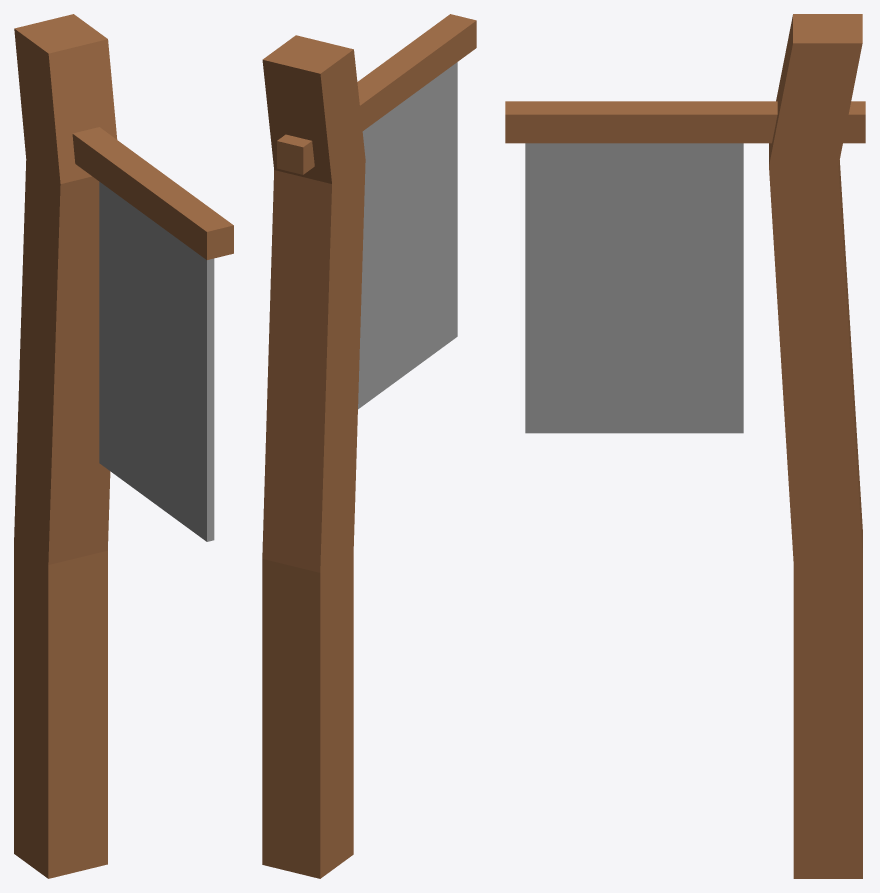
The model's file is blocking_fanion.fbx.
3 views of the same model, side by side, from view 1: azimuth 30°, elevation 25°; view 2: azimuth 150°, elevation 25°; view 3: azimuth 270°, elevation 25° (orthographic). The views are drawn at different scales.
Visible parts, largest first — view 1: blocking_fanion; view 2: blocking_fanion; view 3: blocking_fanion.
Boxes of the visible parts, x1,y1,x2,y2 form: blocking_fanion: (14, 14, 233, 878); blocking_fanion: (262, 14, 476, 878); blocking_fanion: (505, 14, 865, 878).
Size of the model in its own units: 32.46 by 431 by 168.
